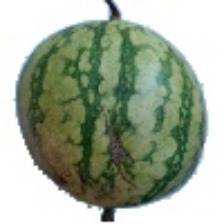watermelon: (37, 22, 224, 161)
